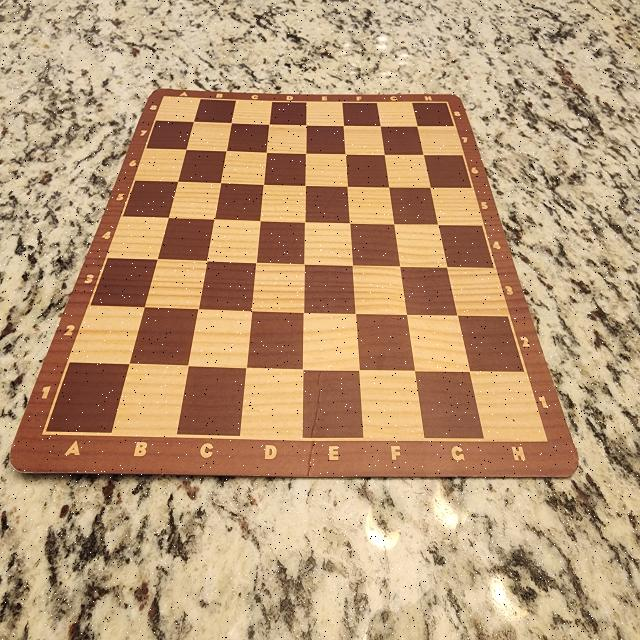Bottom-Left: (58, 361, 114, 435)
Bottom-Right: (480, 374, 548, 440)
Top-Left: (159, 96, 198, 123)
Top-Right: (414, 103, 453, 124)
